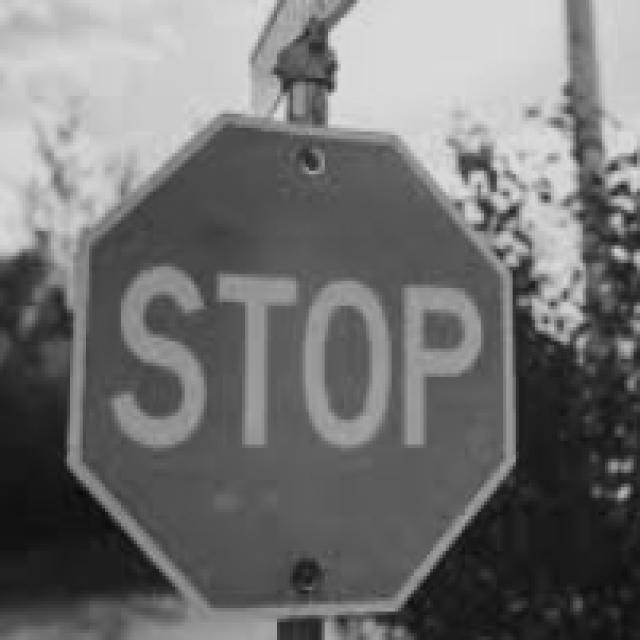Stop-signs: (67, 113, 517, 616)
